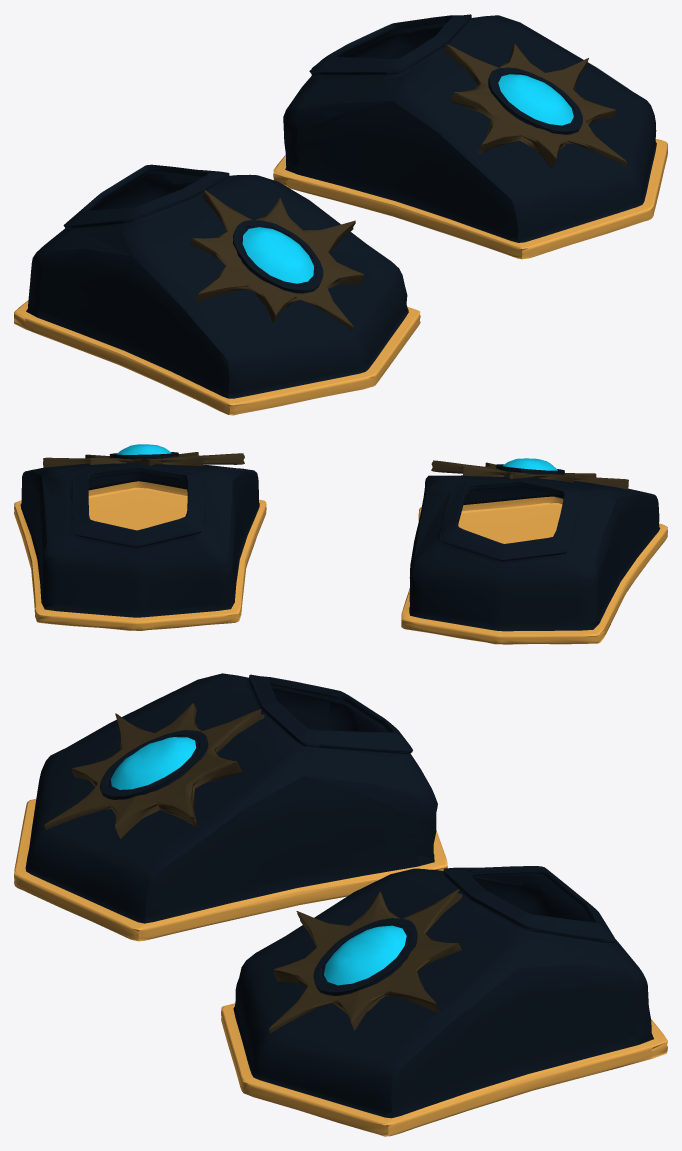
3 views of the same model, one above another, from view 1: azimuth 30°, elevation 25°; view 2: azimuth 150°, elevation 25°; view 3: azimuth 270°, elevation 25° (orthographic). The views are drawn at different scales.
Visible parts, largest first — view 1: Plane_015, Cube_008, Cube_009; view 2: Plane_015, Cube_008, Cube_009; view 3: Plane_015, Cube_008, Cube_009.
Part boxes in pixels (left/top/right/bottom): Plane_015: left=14, top=14, right=667, bottom=415; Cube_008: left=189, top=43, right=627, bottom=330; Cube_009: left=233, top=67, right=582, bottom=293; Plane_015: left=14, top=463, right=667, bottom=644; Cube_008: left=43, top=452, right=628, bottom=489; Cube_009: left=109, top=444, right=564, bottom=474; Plane_015: left=14, top=673, right=667, bottom=1136; Cube_008: left=44, top=703, right=462, bottom=1033; Cube_009: left=100, top=730, right=417, bottom=995.
Size of the model in its own units: 109 by 83.07 by 20.5.
